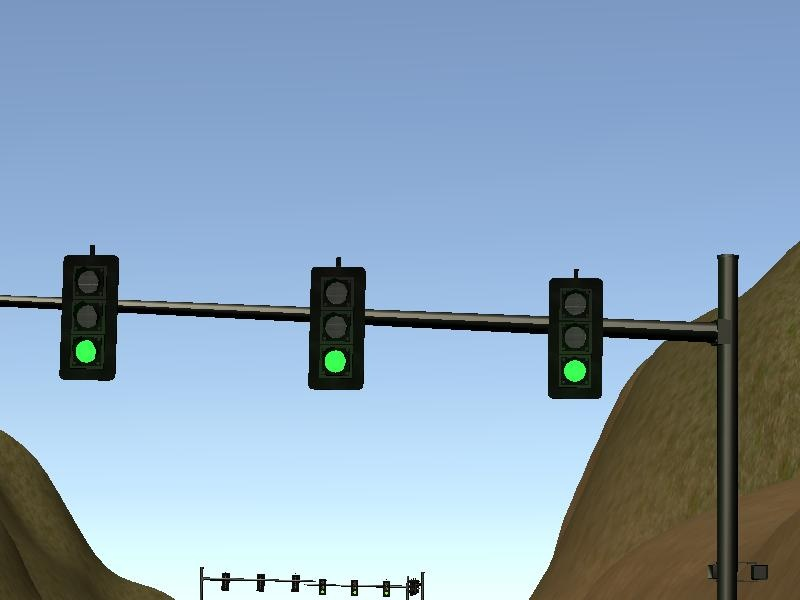green: (306, 259, 369, 390), (60, 252, 122, 385), (545, 276, 609, 402)
